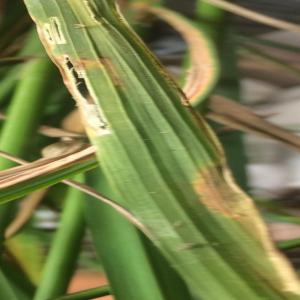Bacterial_Blight: (146, 153, 268, 300)
